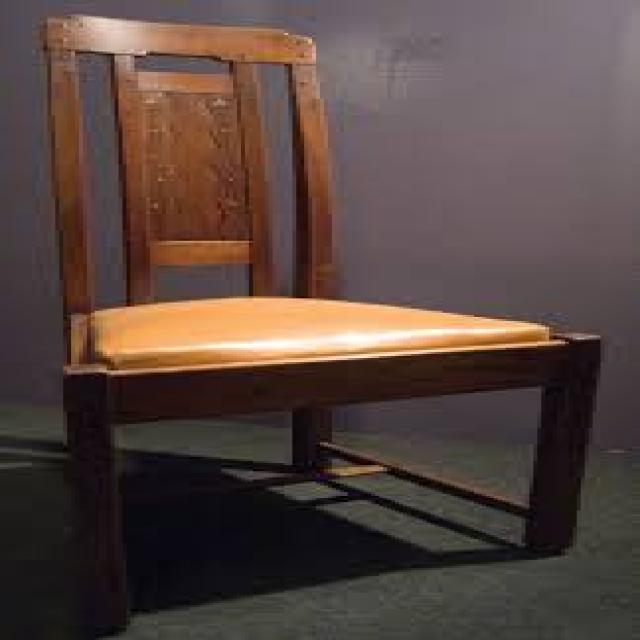chair: (0, 0, 640, 633)
